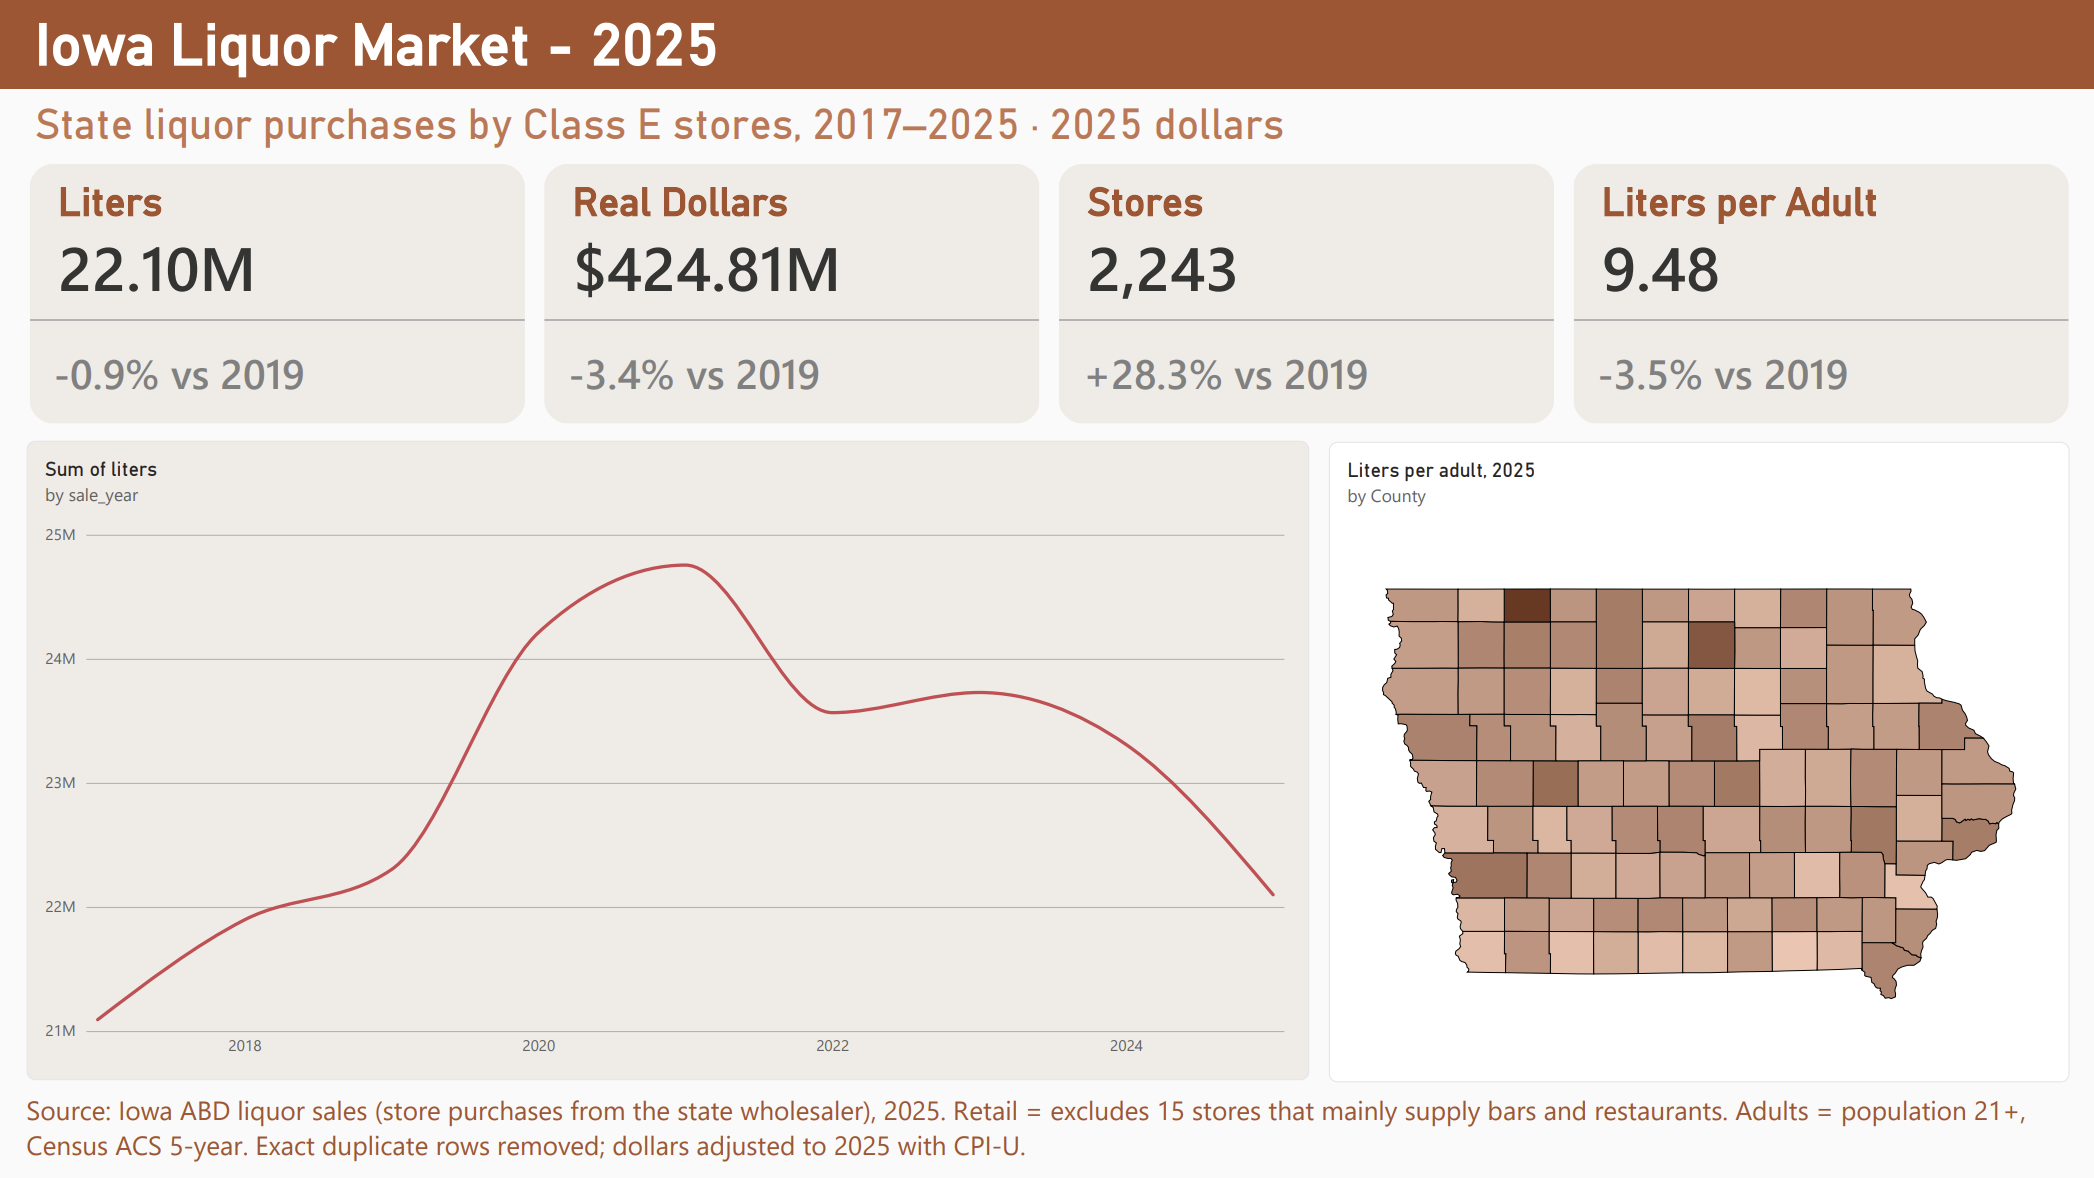

This screenshot's page, from the dashboard's own definition file:
{"tool":"powerbi","page":{"name":"Overview","canvas":[1920,1080],"ordinal":0},"visuals":[{"type":"cardVisual","fields":{"Data":["_Measures.Liters","_Measures.Real Dollars","_Measures.Stores","_Measures.Liters per Adult"]},"box":[29,150,1869.5,236.6],"z":0},{"type":"lineChart","fields":{"Category":["Years.sale_year"],"Y":["Sum(county_category_year.liters)"]},"box":[26,403,1174,585],"z":1000},{"type":"shapeMap","title":"Liters per adult, 2025","fields":{"Category":["county_year.county"],"Value":["Sum(county_year.liters_retail_per_adult)"]},"box":[1218,404,678,586],"z":2000},{"type":"textbox","box":[34,91,1456,73],"z":3000},{"type":"shape","box":[0,0,1920,81],"z":4000},{"type":"textbox","box":[34,10,1858,72],"z":5000},{"type":"textbox","box":[26,998,1894,82],"z":6000}]}

Visuals, with their boxes in screenshot pixels (x1, y1, x2, y2), scaled from the page's 1920x1080 canvas onto the 2094x1178 screenshot:
cardVisual - _Measures.Liters x _Measures.Real Dollars: bbox=[32, 164, 2071, 422]
lineChart - Years.sale_year x Sum(county_category_year.liters): bbox=[28, 440, 1309, 1078]
"Liters per adult, 2025" shapeMap: bbox=[1328, 441, 2068, 1080]
textbox: bbox=[37, 99, 1625, 179]
shape: bbox=[0, 0, 2093, 88]
textbox: bbox=[37, 11, 2063, 89]
textbox: bbox=[28, 1089, 2093, 1177]
